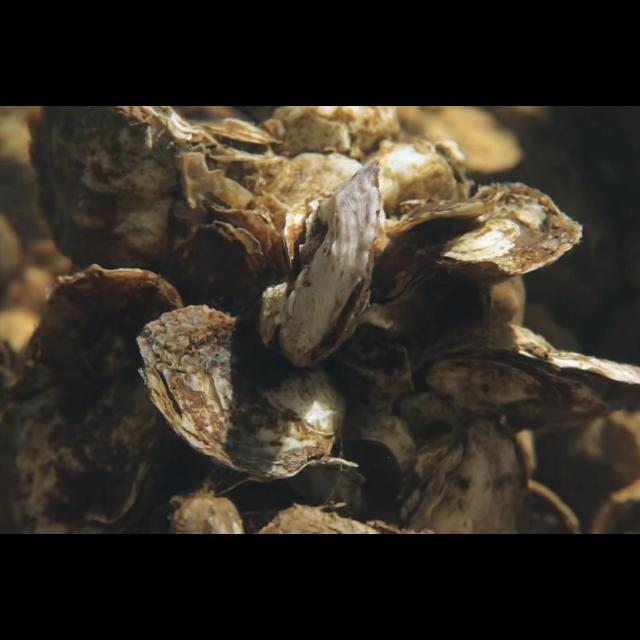Oyster-Closed: (7, 264, 185, 534), (409, 322, 640, 436), (257, 158, 381, 370), (376, 183, 584, 307), (392, 418, 534, 534)
Oyster-Indeterminate: (31, 106, 226, 304), (136, 304, 350, 482), (170, 220, 266, 324)
Oyster-Open: (214, 456, 360, 516)
